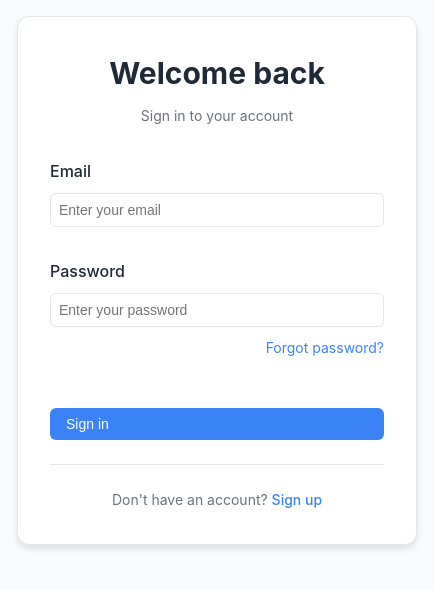
Test: Login Page › should validate password length
Type "test@example.com" into the field labelled "Email" at point(217, 210), box [50,193,384,227]
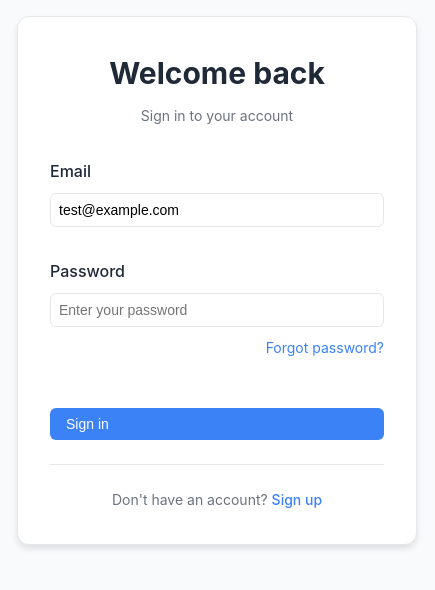
Type "123" into the password field labelled "Password" at point(217, 310), box [50,293,384,327]
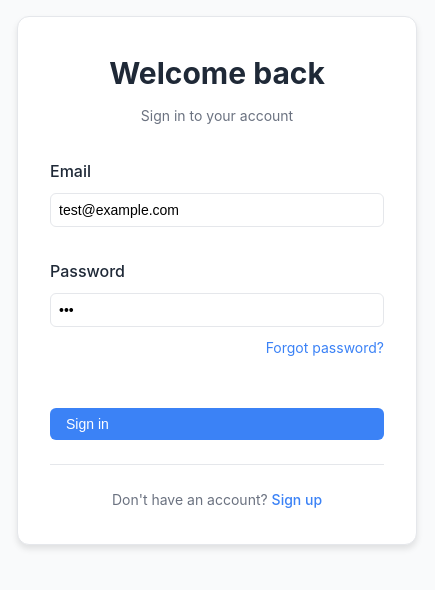
Submit the form "Sign in", box [50,159,384,440]
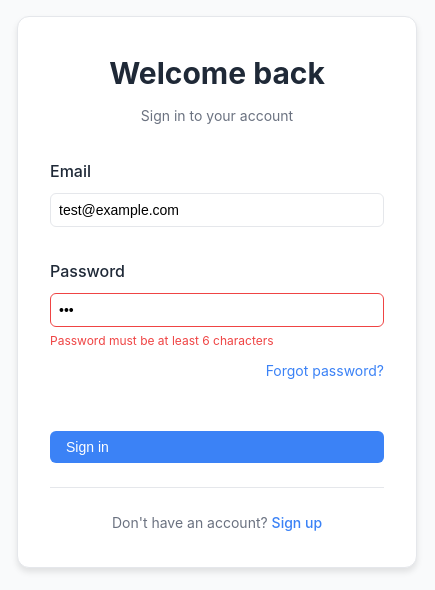
Check: the text "Password must be at least 6 characters" is shown, box [50,333,274,348]
